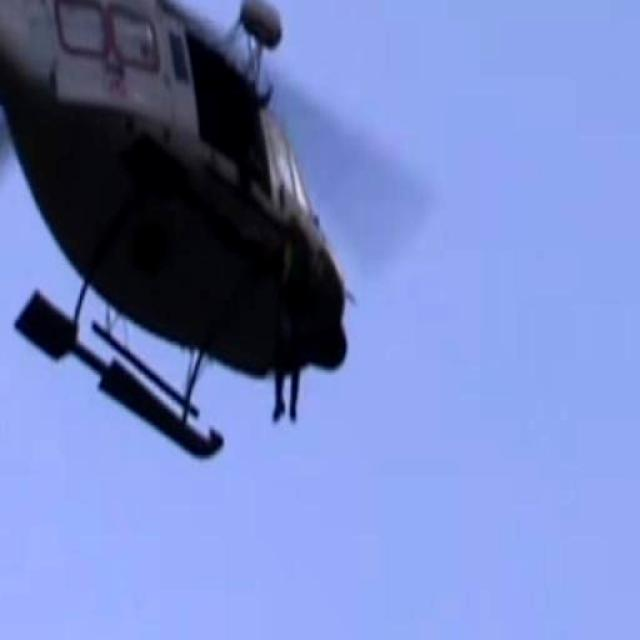drone: (0, 0, 431, 476)
